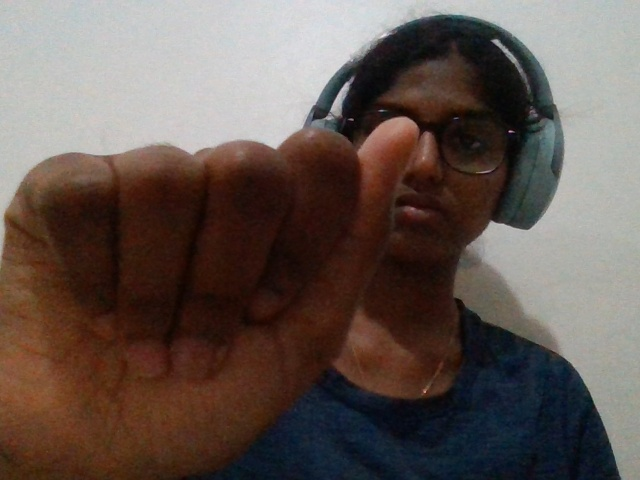A: (1, 104, 426, 479)
